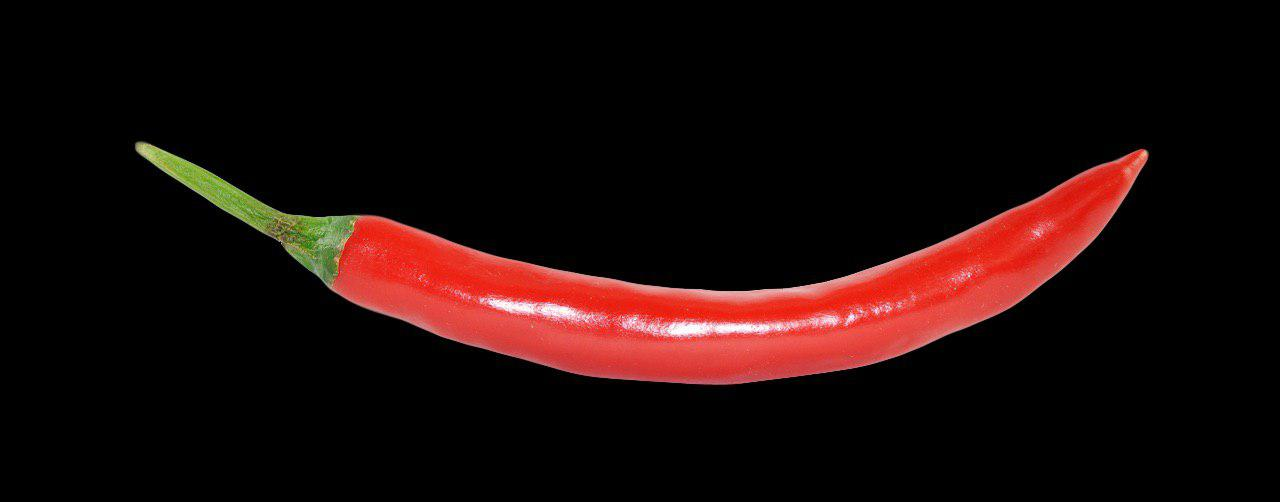lada merah: (316, 142, 1164, 399)
